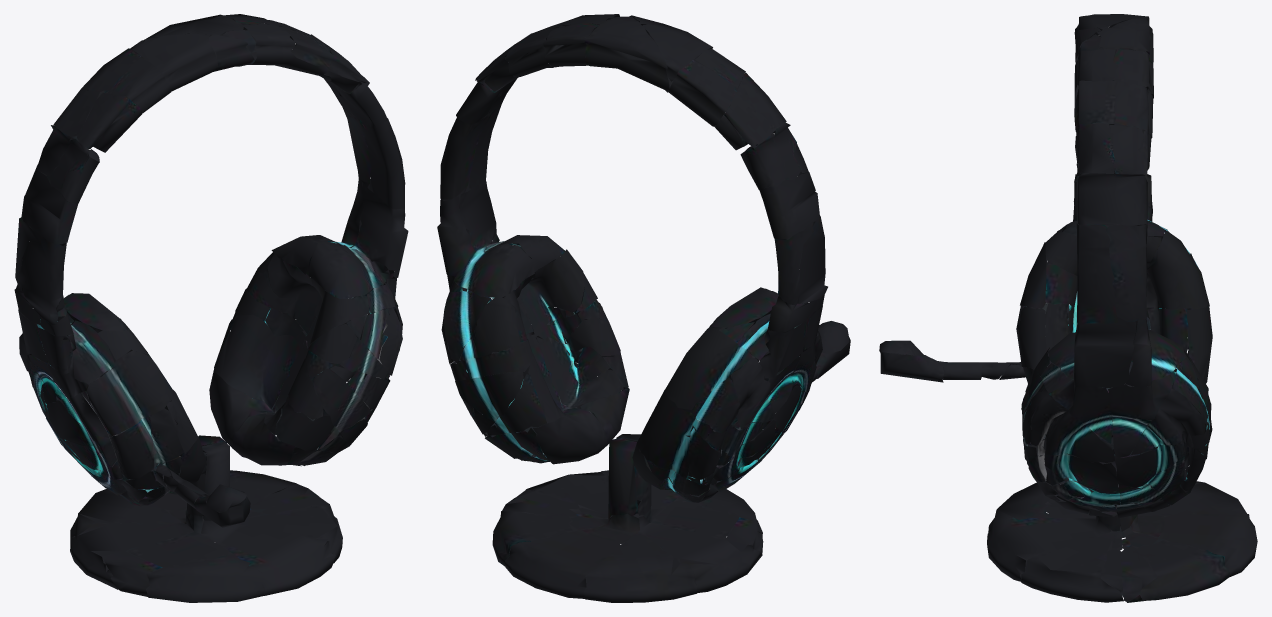
File: co_headset_p.glb
The picture shows the model from 3 angles, left to right: view 1: azimuth 30°, elevation 25°; view 2: azimuth 150°, elevation 25°; view 3: azimuth 270°, elevation 25°; orthographic projection.
Visible parts, largest first — view 1: Mesh_0; view 2: Mesh_0; view 3: Mesh_0.
Part boxes in pixels (x1,y1,x2,y2): Mesh_0: (14,14,408,602); Mesh_0: (437,14,850,602); Mesh_0: (879,14,1257,602).
Size of the model in its own units: 1.37 by 1.9 by 1.27.
Materials: 1 (1 with a texture image).
